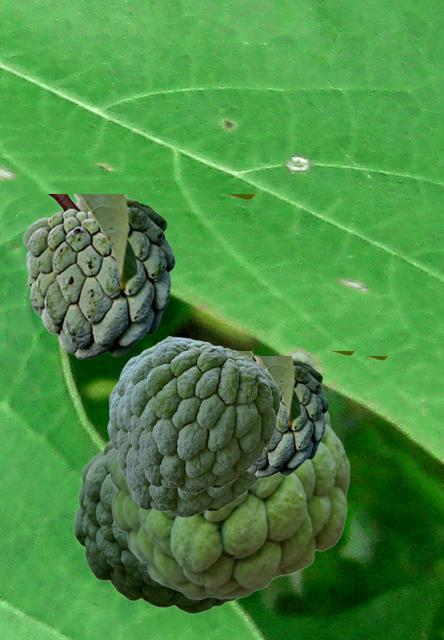atis: (107, 409, 349, 598), (22, 194, 255, 359), (73, 440, 238, 613), (107, 342, 260, 516), (122, 336, 279, 492), (247, 356, 387, 477)
